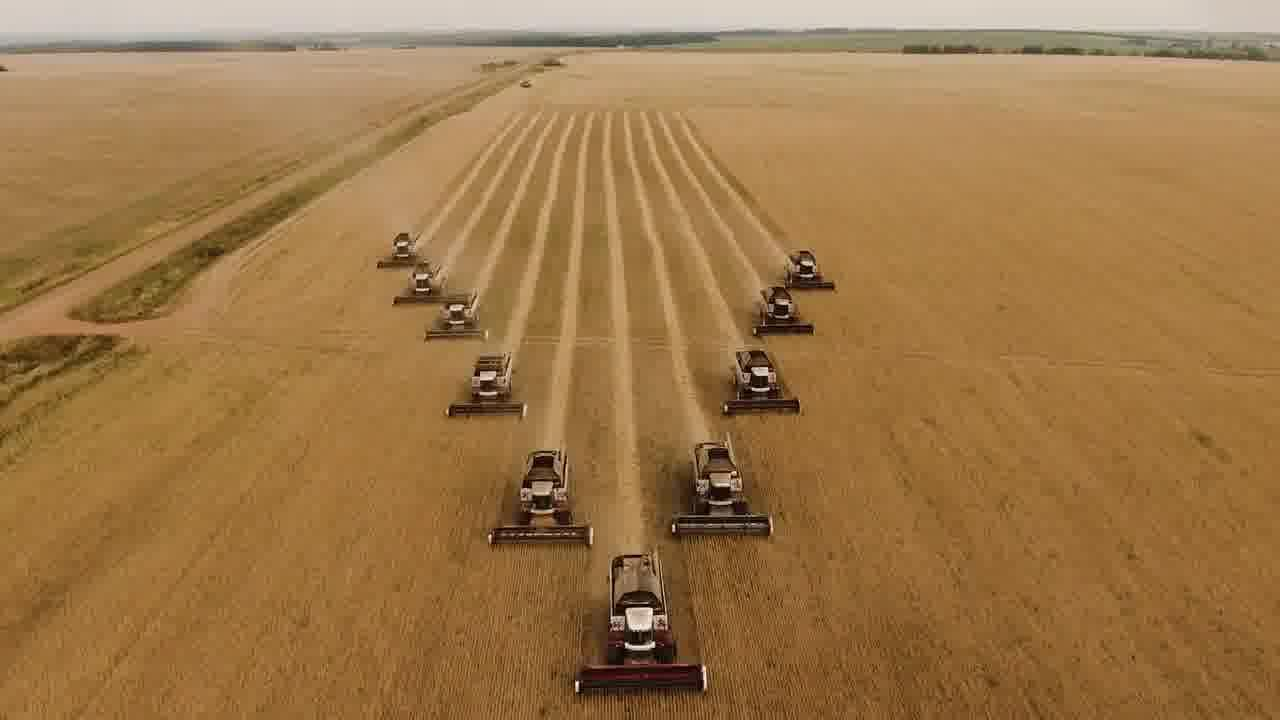combine harvester: (567, 551, 712, 699), (481, 445, 599, 553), (663, 436, 778, 546), (444, 346, 531, 427), (717, 344, 806, 421), (421, 287, 496, 348), (743, 283, 819, 339), (389, 260, 471, 309), (772, 245, 842, 294), (375, 228, 423, 271)
